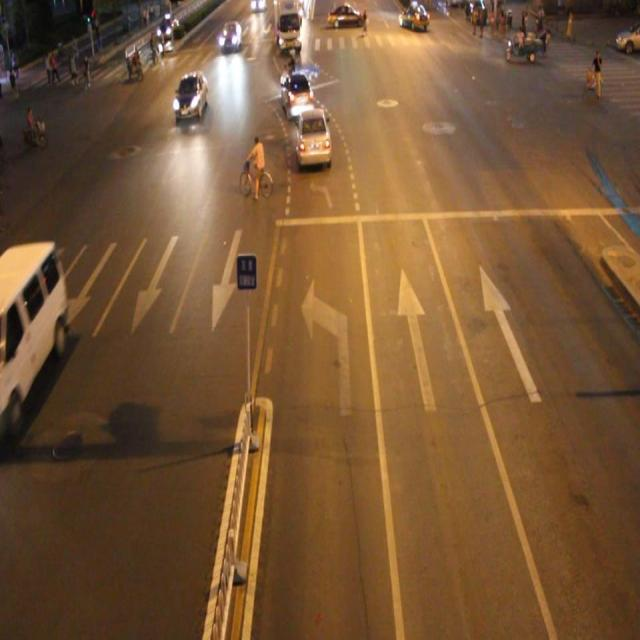car: (295, 104, 334, 164), (280, 67, 316, 119), (174, 70, 207, 120)
truck: (1, 237, 66, 428)
